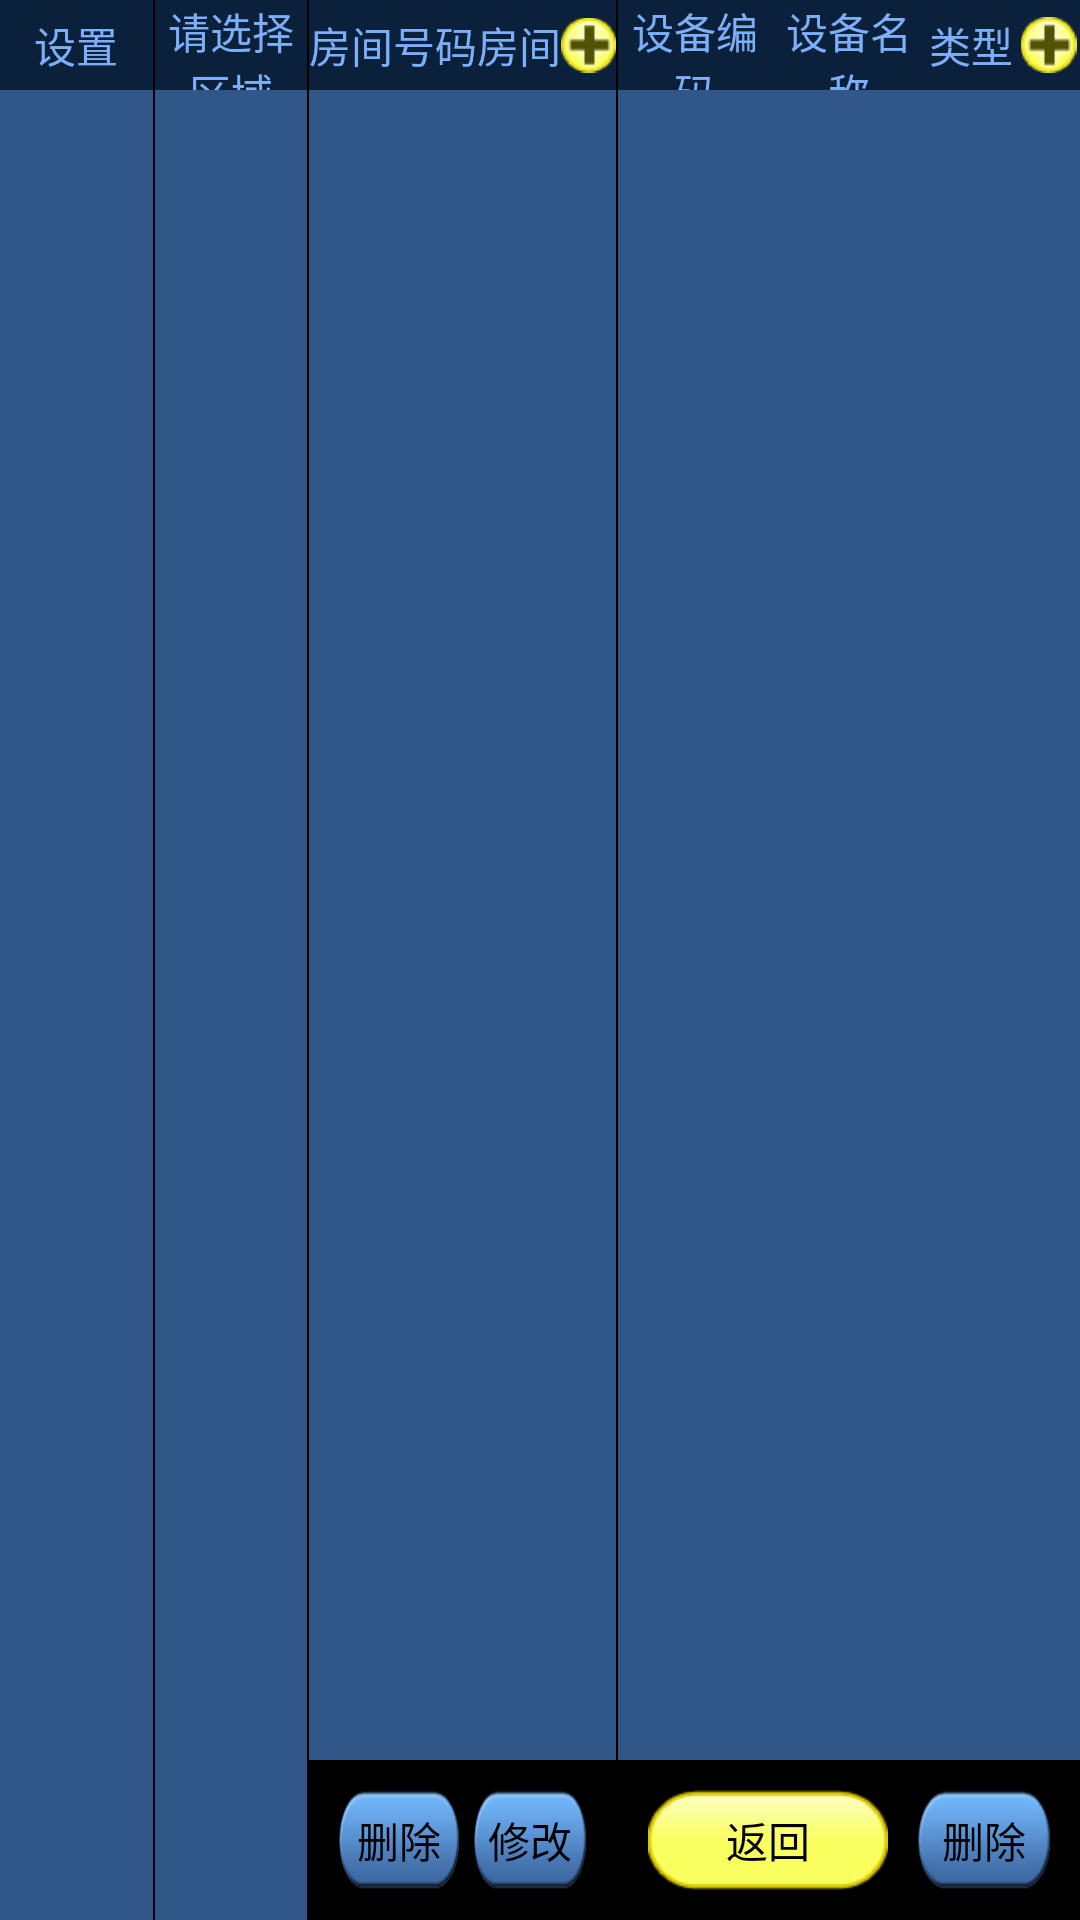

Locate icon controls on the screen. Image size 1080x1920, boxes as (x1, y1, x2, y2).
add: (1021, 17, 1077, 73), (561, 18, 616, 73)
